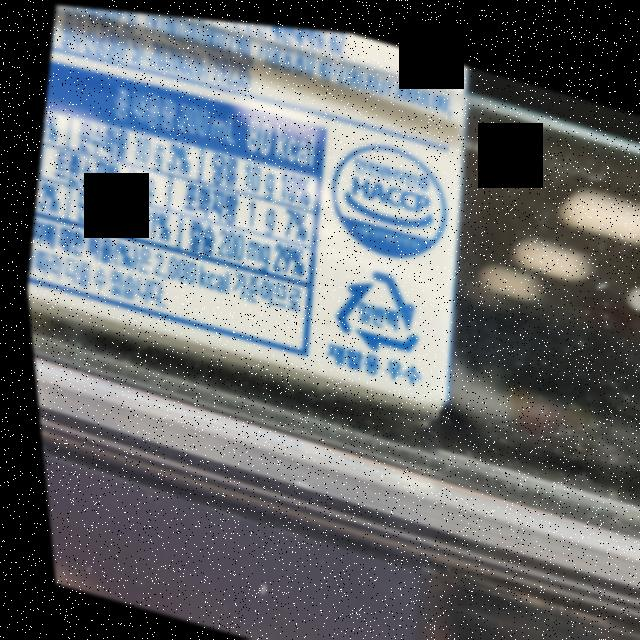NormalPack: (315, 245, 432, 359)
